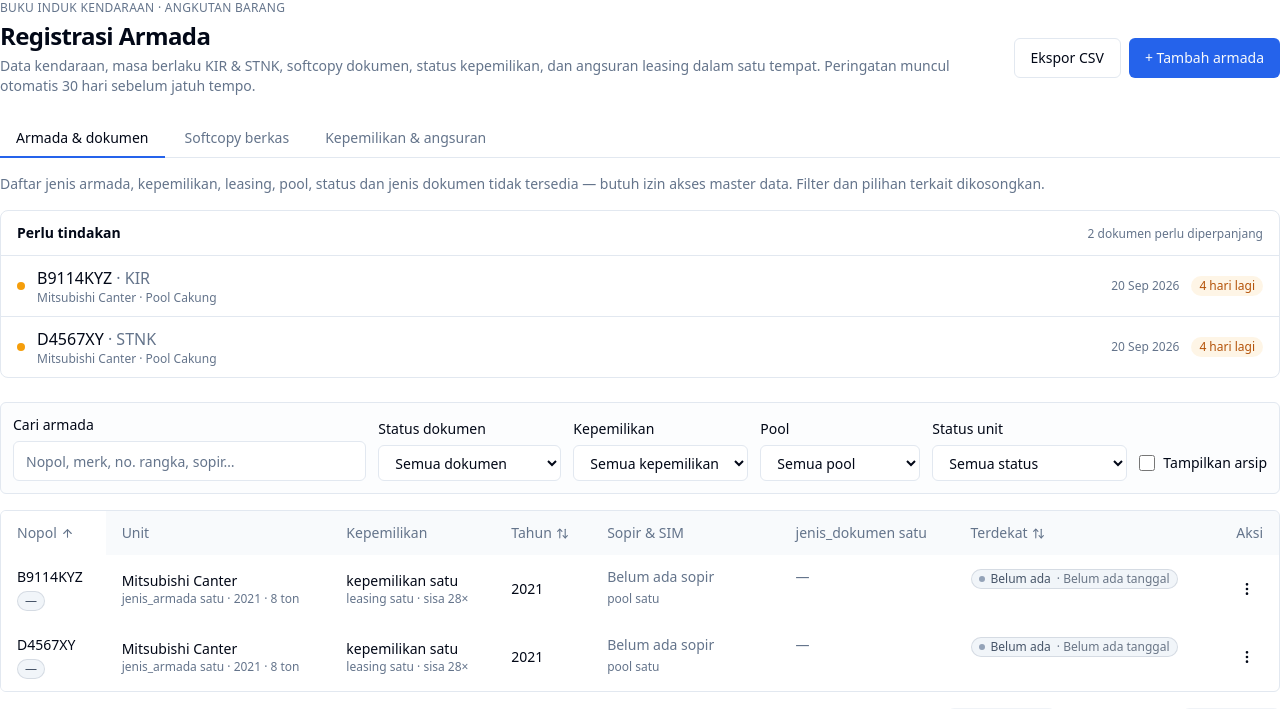
Scenario: FleetVehiclesPage › opens the edit modal for the vehicle the clicked alert names, not the first row
The width and height of the screenshot is (1280, 709).
Click the button "D4567XY · STNK" at {"x": 97, "y": 339}, box x1=37 y1=327 x2=156 y2=351
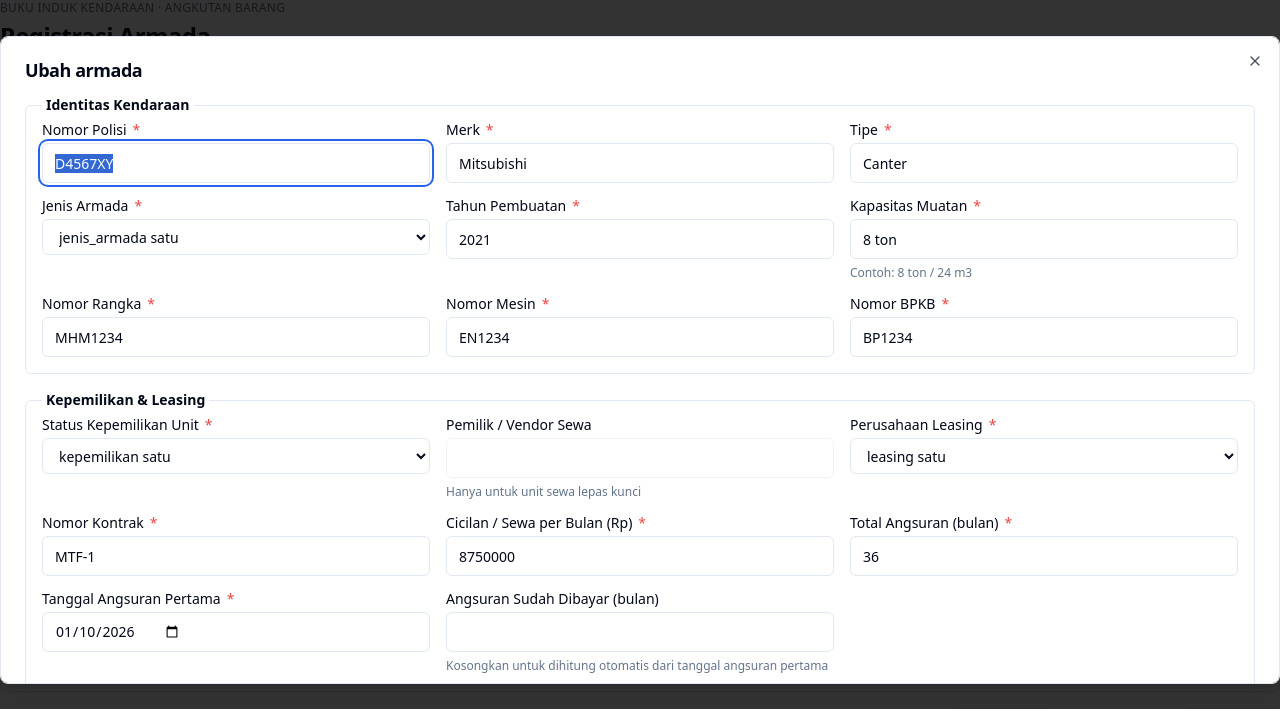
Now the field labelled "Nomor Polisi *" holds "D4567XY", box x1=42 y1=143 x2=430 y2=183
